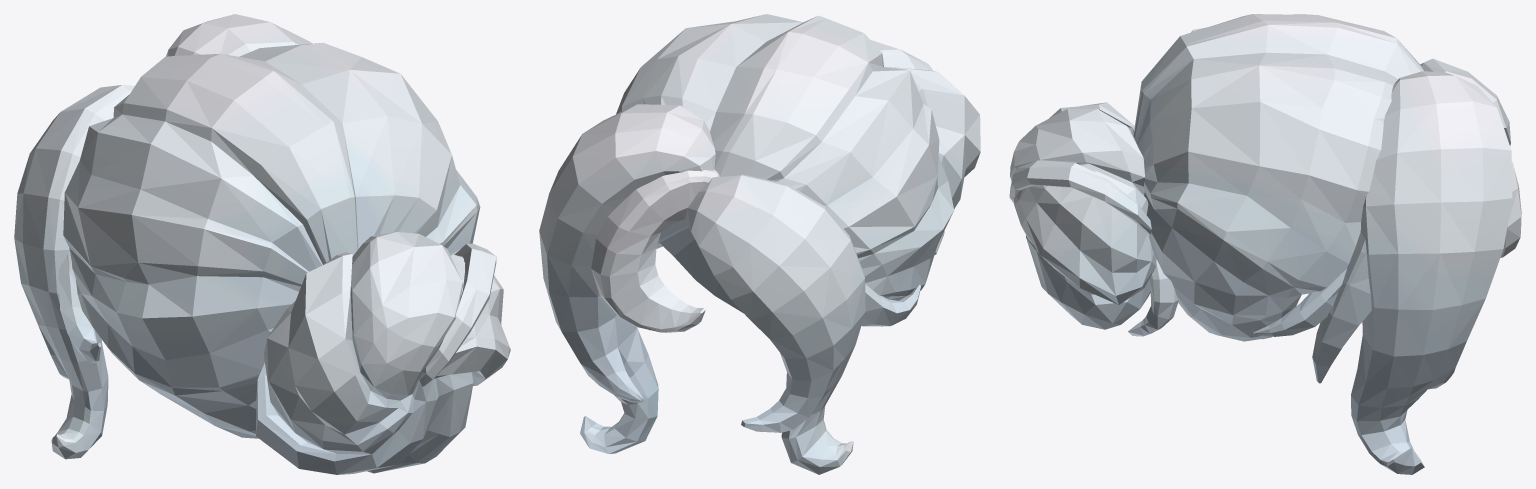
File: CharSkyKid_Hair_AP32Coral.glb
3 views of the same model, side by side, from view 1: azimuth 30°, elevation 25°; view 2: azimuth 150°, elevation 25°; view 3: azimuth 270°, elevation 25° (orthographic). The views are drawn at different scales.
Visible parts, largest first — view 1: CharSkyKid_Hair_AP32Coral; view 2: CharSkyKid_Hair_AP32Coral; view 3: CharSkyKid_Hair_AP32Coral.
Boxes of the visible parts, x1=… form: CharSkyKid_Hair_AP32Coral: x1=14, y1=14, x2=510, y2=474; CharSkyKid_Hair_AP32Coral: x1=539, y1=14, x2=980, y2=474; CharSkyKid_Hair_AP32Coral: x1=1009, y1=14, x2=1521, y2=474.
Bounding box in the file's own units: 2.95 × 3.64 × 4.3.
1 material, 1 textured.
